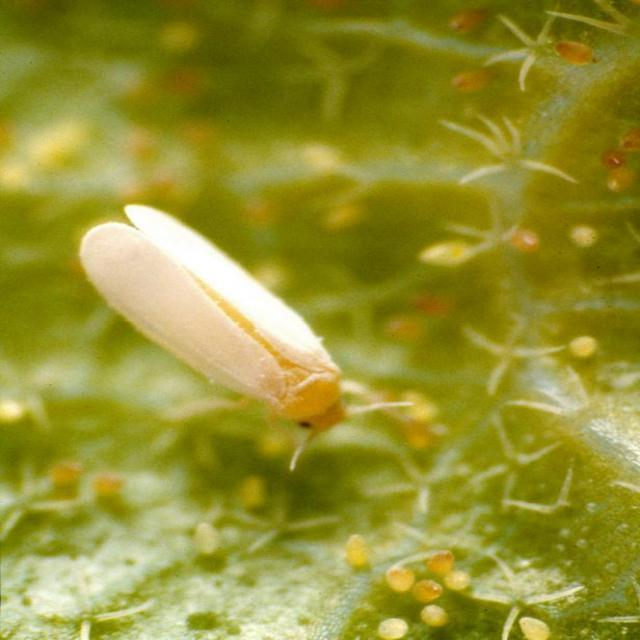Whitefly: (68, 189, 436, 485)
